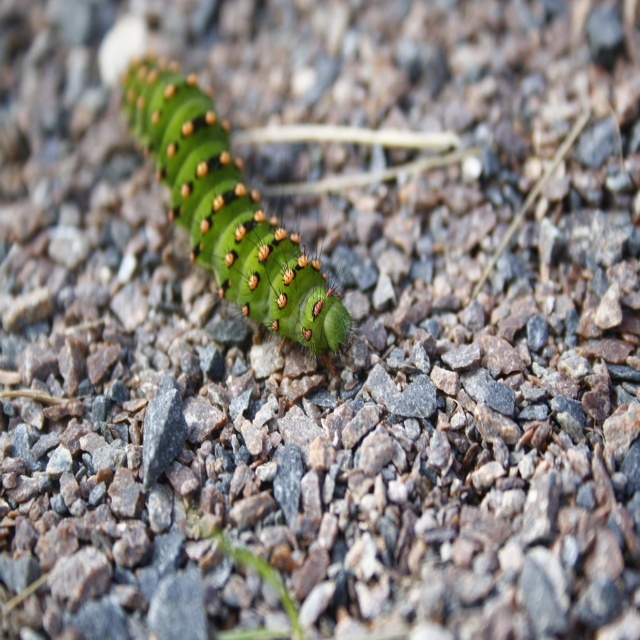Caterpillar: (114, 50, 364, 379)
